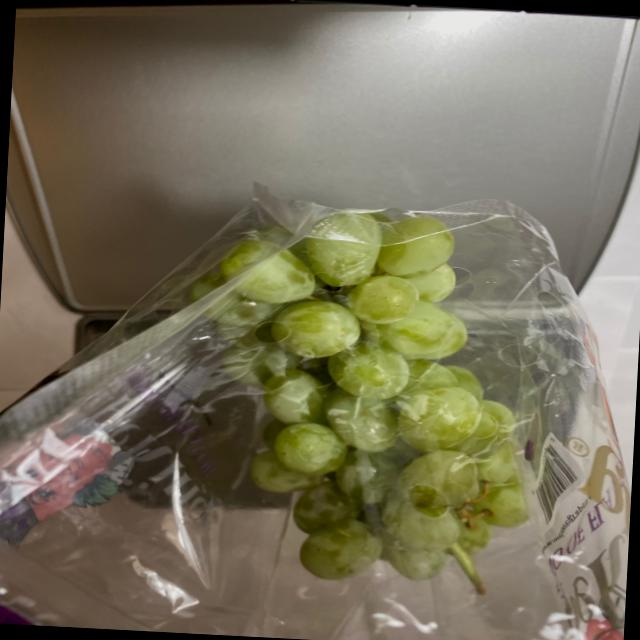grapes: (175, 220, 558, 604)
